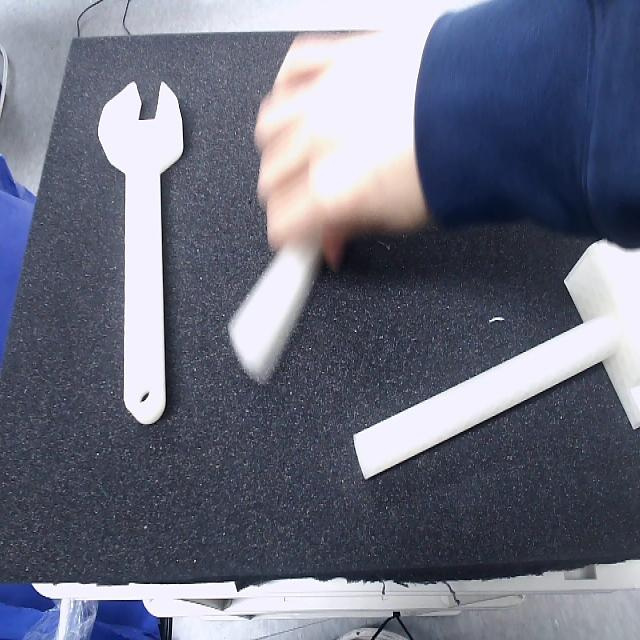Spanner: (96, 83, 184, 428)
